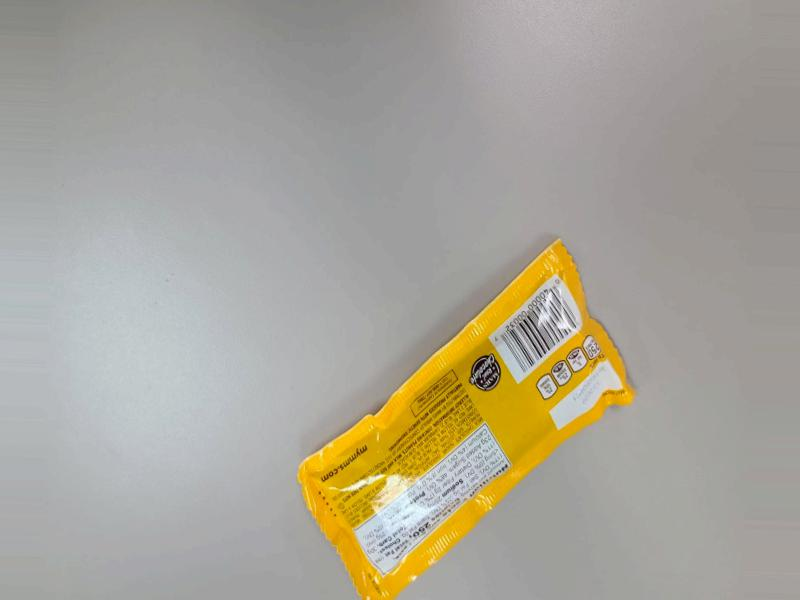m&m: (288, 220, 632, 595)
